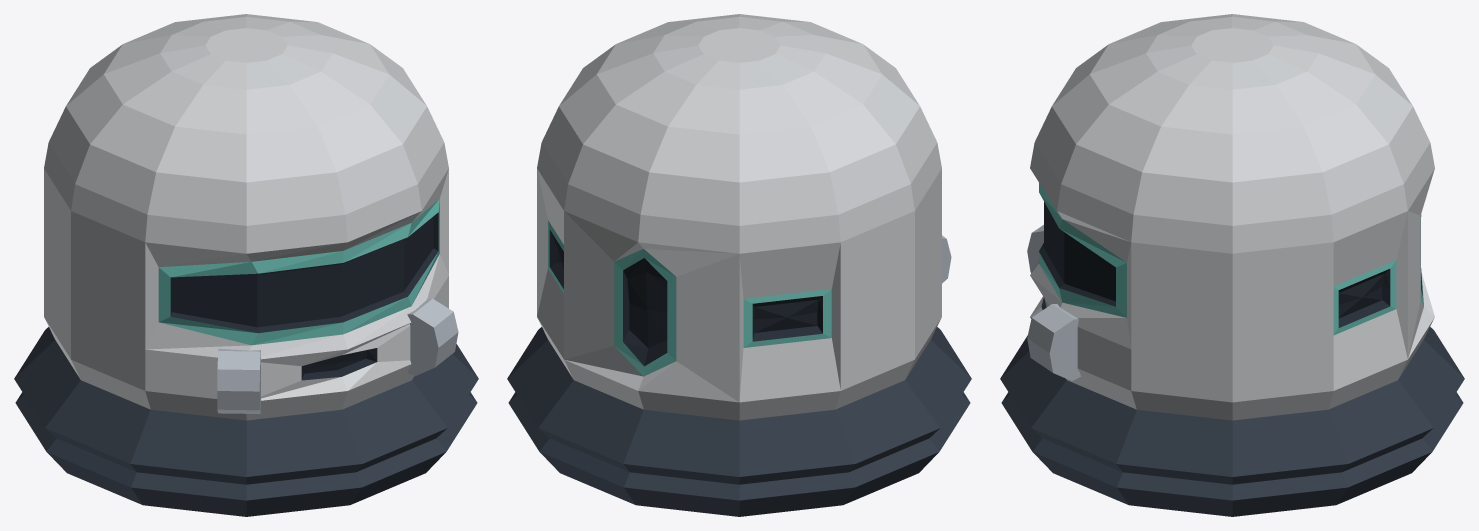
File: service-drone-bot-3817e5.glb
3 views of the same model, side by side, from view 1: azimuth 30°, elevation 25°; view 2: azimuth 150°, elevation 25°; view 3: azimuth 270°, elevation 25° (orthographic).
Parts seen in each view (by area): view 1: bot-shell, arm-r-nub, arm-l-nub; view 2: bot-shell; view 3: bot-shell, arm-r-nub.
Part boxes in pixels (<box>): bot-shell: <box>14,14,478,516</box>; arm-r-nub: <box>407,298,458,376</box>; arm-l-nub: <box>217,348,260,413</box>; bot-shell: <box>507,14,971,516</box>; bot-shell: <box>1000,14,1464,516</box>; arm-r-nub: <box>1027,304,1081,380</box>.
Size of the model in its own units: 0.7 by 0.666 by 0.7.
